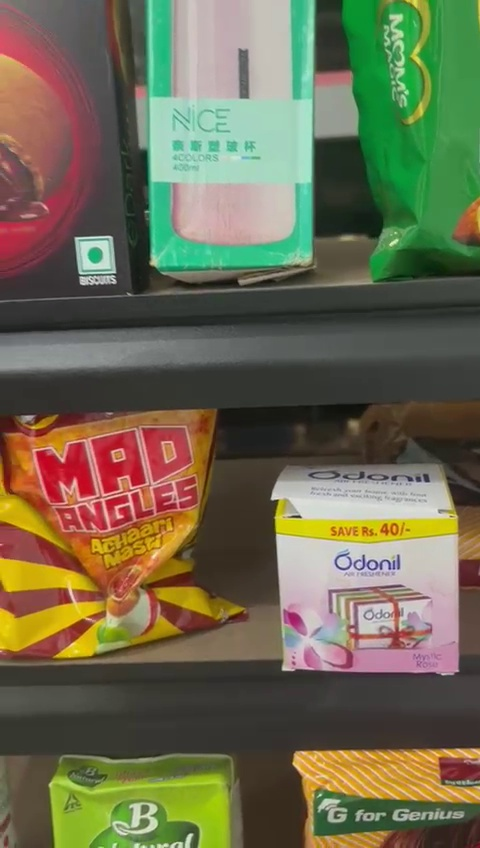Bingo Mad Angles: (0, 411, 218, 645)
Odonil: (272, 466, 462, 676)
